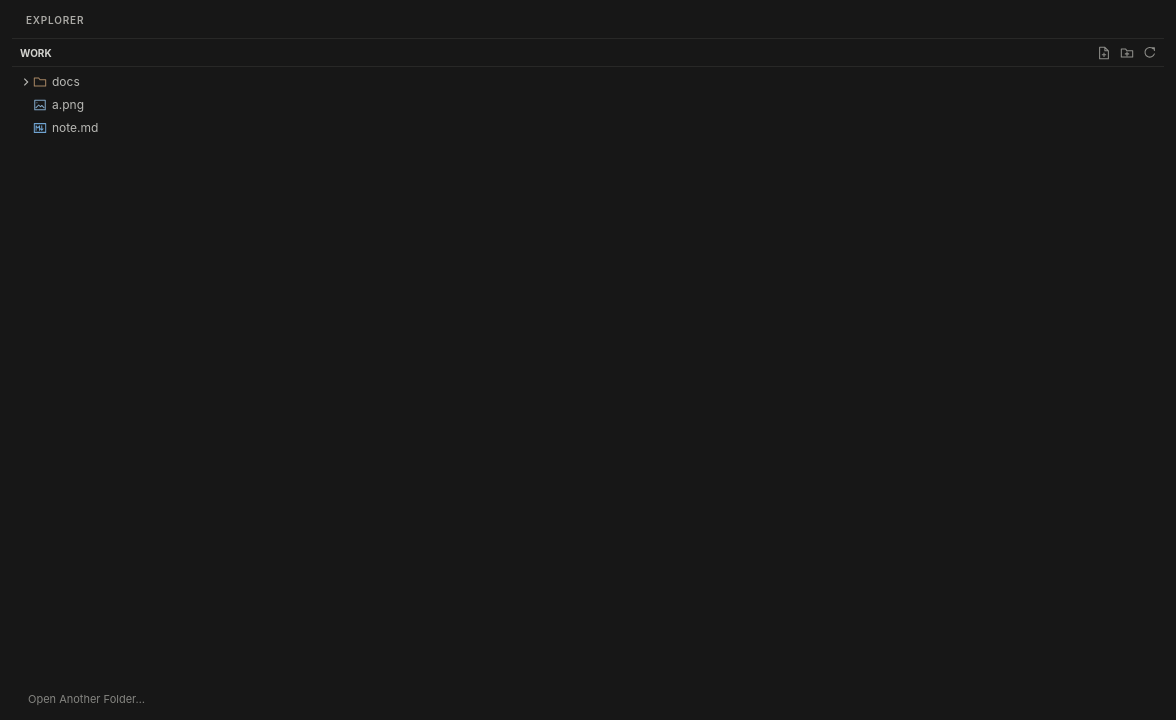
Test: Explorer › loads tree, expands folders, opens files, and supports selection
Click the list item "docs".
click(26, 82)  # box [12, 70, 1164, 93]
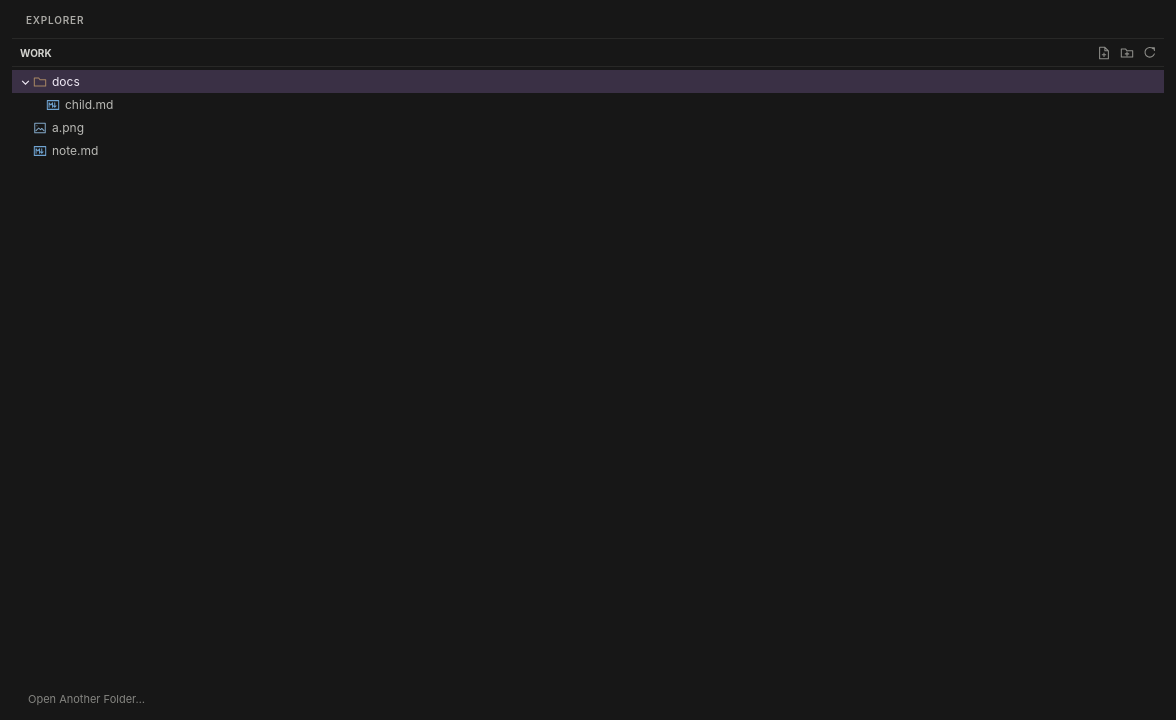
Expected: the list item "child.md" is shown, [12, 93, 1164, 116]
Click the list item "note.md".
click(75, 150)  # box [12, 139, 1164, 162]
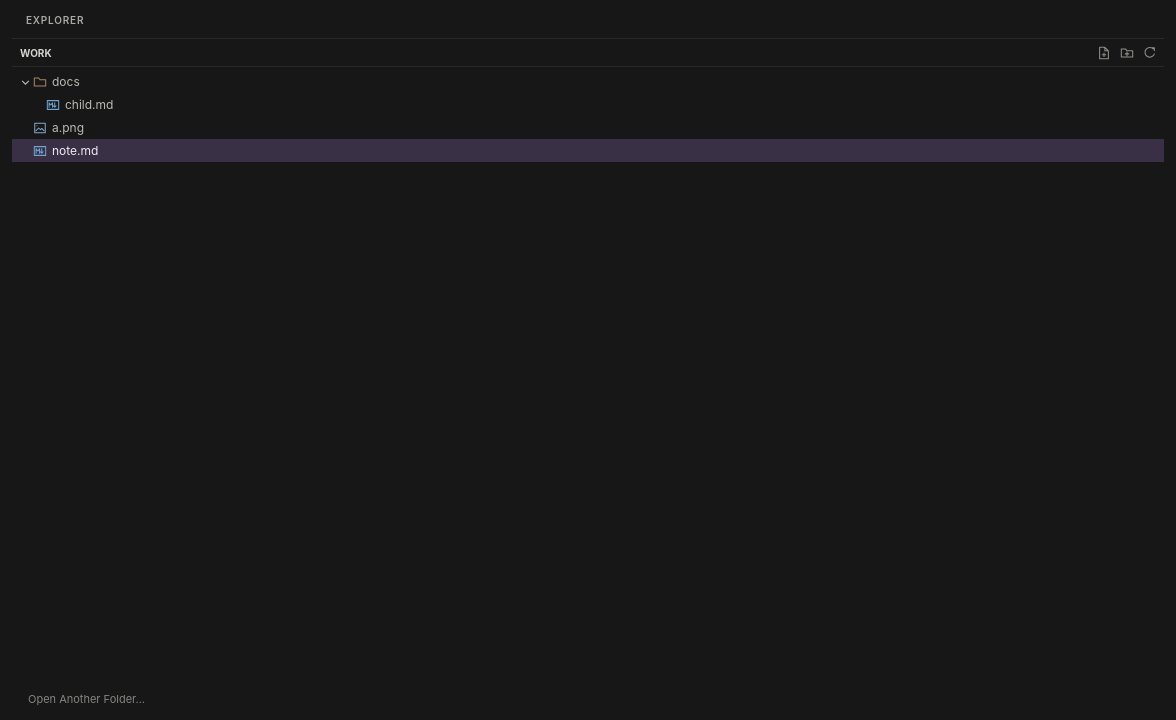
Click the list item "docs".
click(26, 82)  # box [12, 70, 1164, 93]
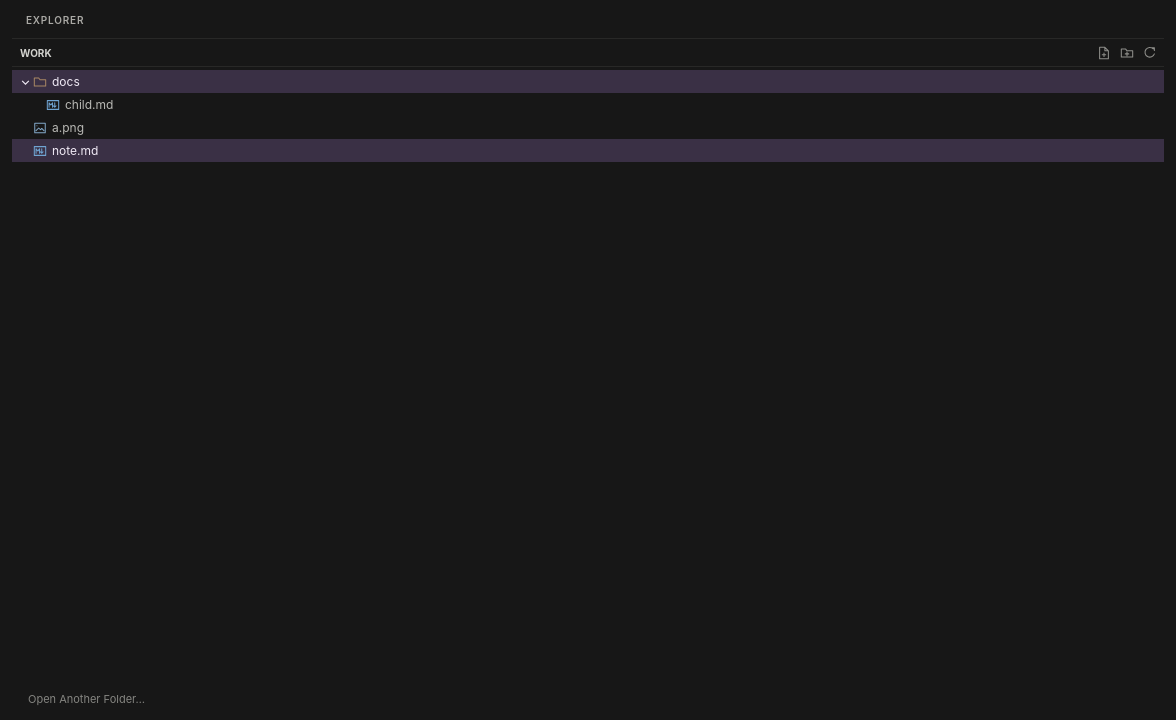
Click the list item "note.md".
click(75, 150)  # box [12, 139, 1164, 162]
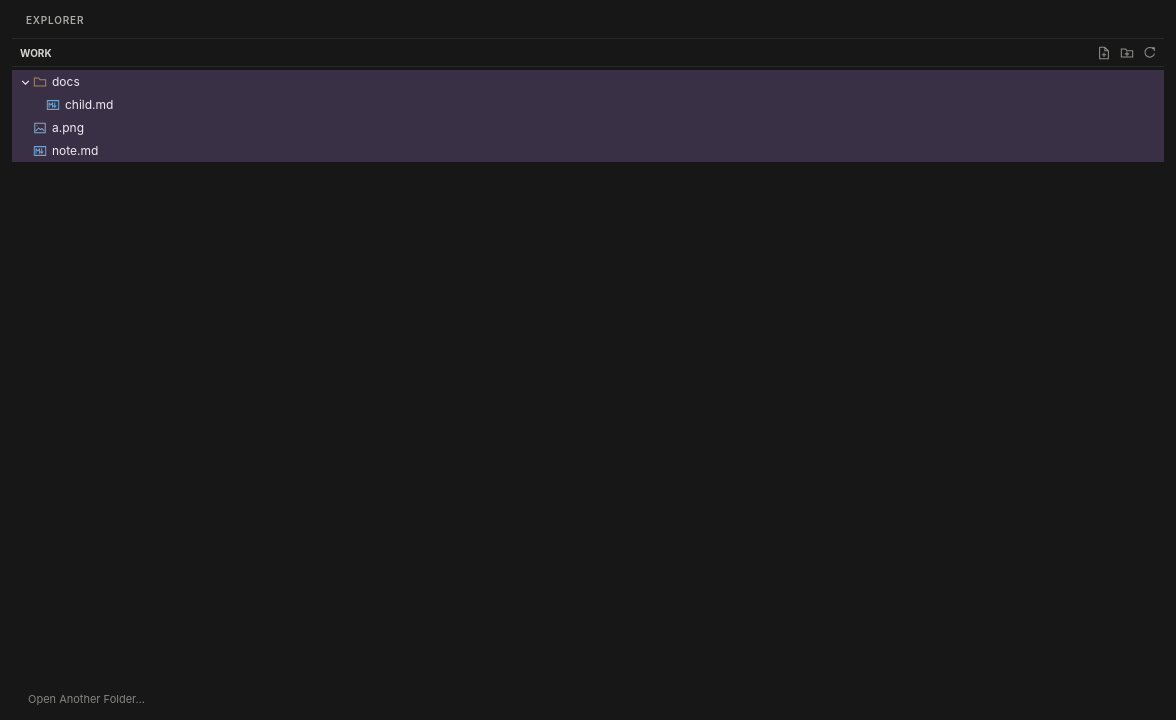
Press a in the element named "Workspace files", box [12, 70, 1164, 162]
Expected: the list item "note.md" is selected, [12, 139, 1164, 162]
Click the list item "docs".
click(26, 82)  # box [12, 70, 1164, 93]
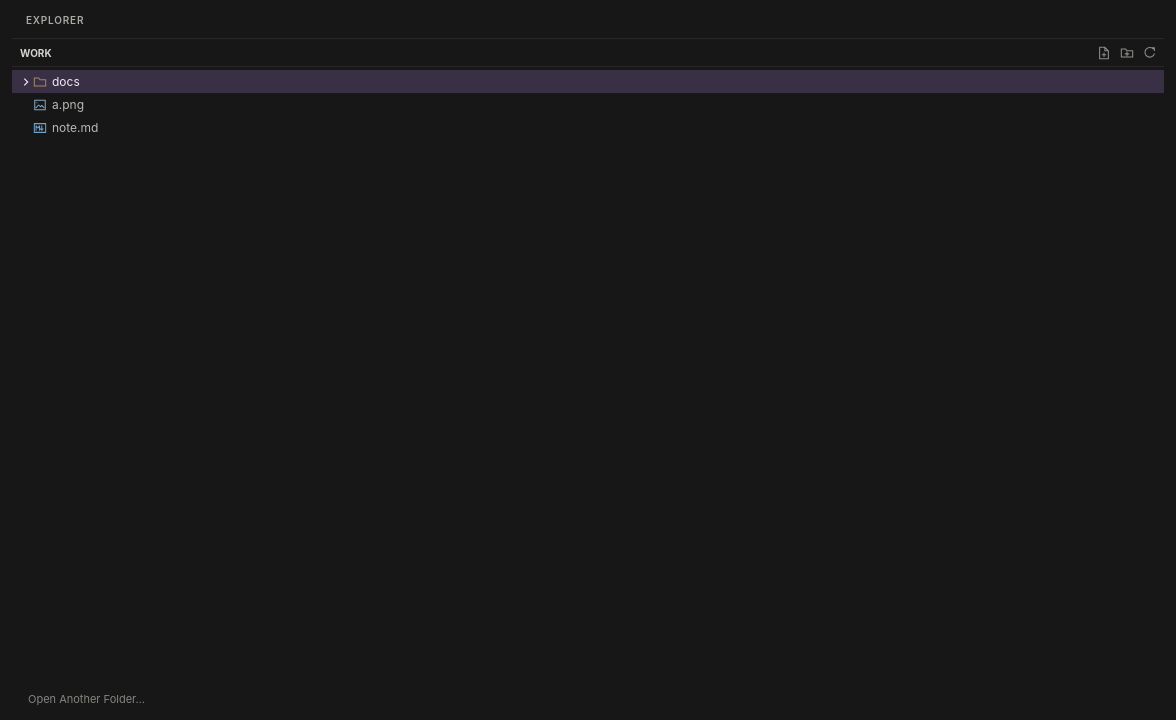
Expected: the list item "child.md" is gone
